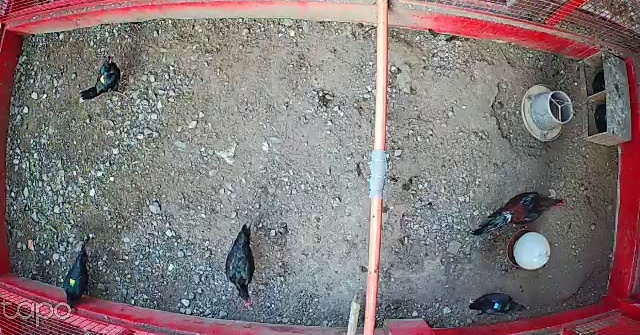Chicken: (225, 217, 266, 307), (61, 236, 105, 314), (77, 54, 127, 104), (466, 290, 532, 319)
Rooster: (473, 189, 576, 240)
Saddle_Color_Blue: (494, 302, 501, 310)
Saddle_Color_Yellow: (99, 76, 107, 85)
Saddle_Color_YellowGreen: (69, 278, 77, 290)
